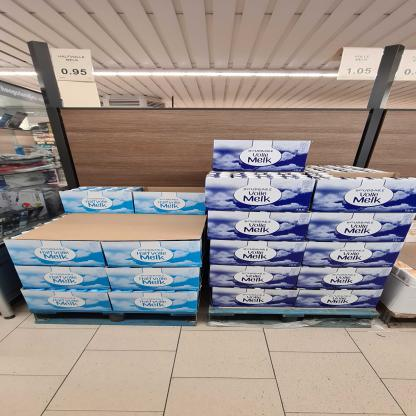prtg: (50, 49, 96, 83), (336, 50, 385, 81), (395, 50, 415, 82)
